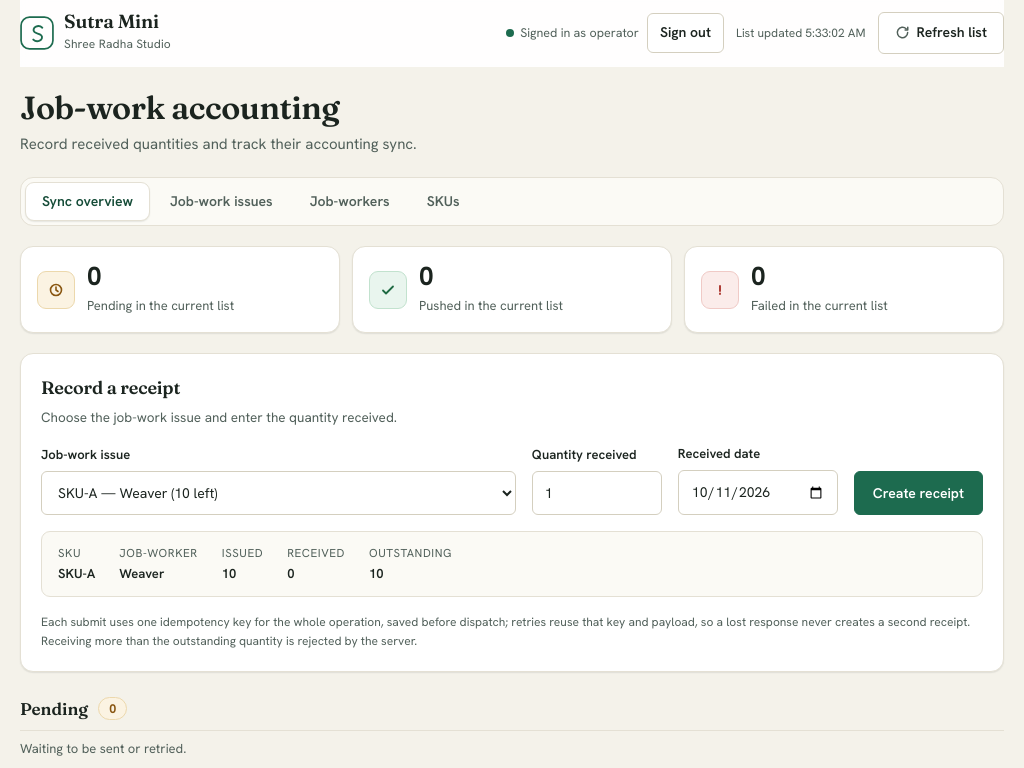
Test: SyncPage refresh list › joins an in-flight background poll instead of discarding the click
Click the button "Refresh list".
click(941, 33)  # box [878,12,1004,54]
Wait 10 ms
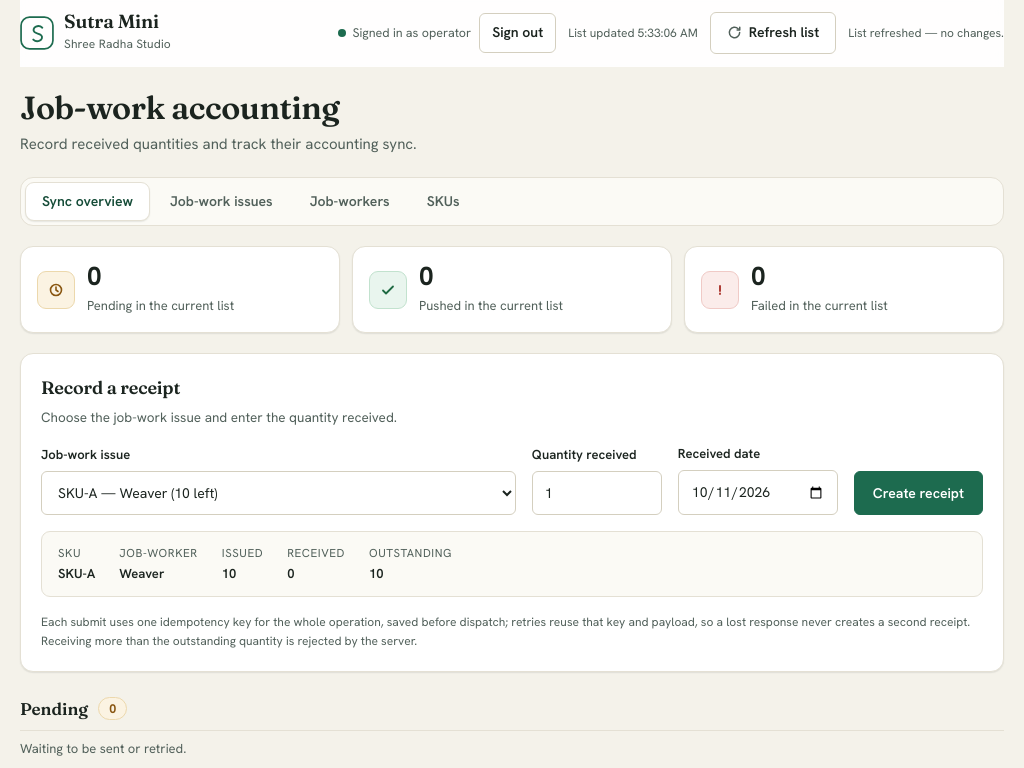
Check: the button named "refreshing" is shown, box [710,12,836,54]
Check: the text "List refreshed — no changes." is shown, box [848,24,1004,42]
